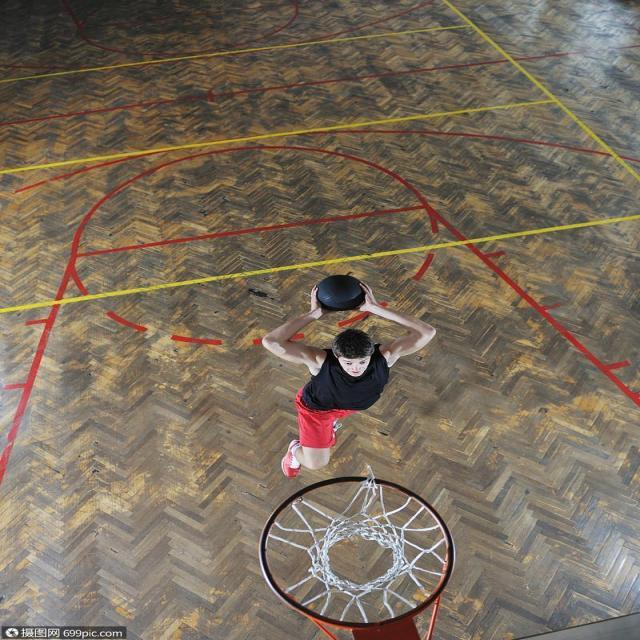rim: (314, 274, 370, 314)
